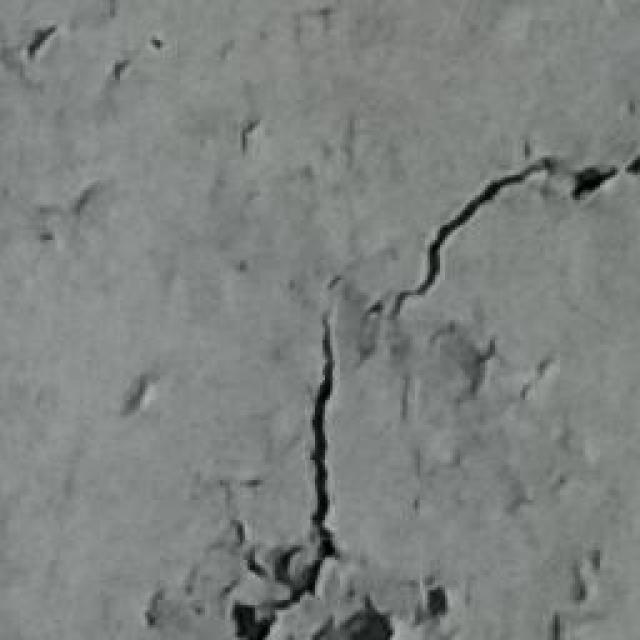Network: (162, 109, 640, 640)
